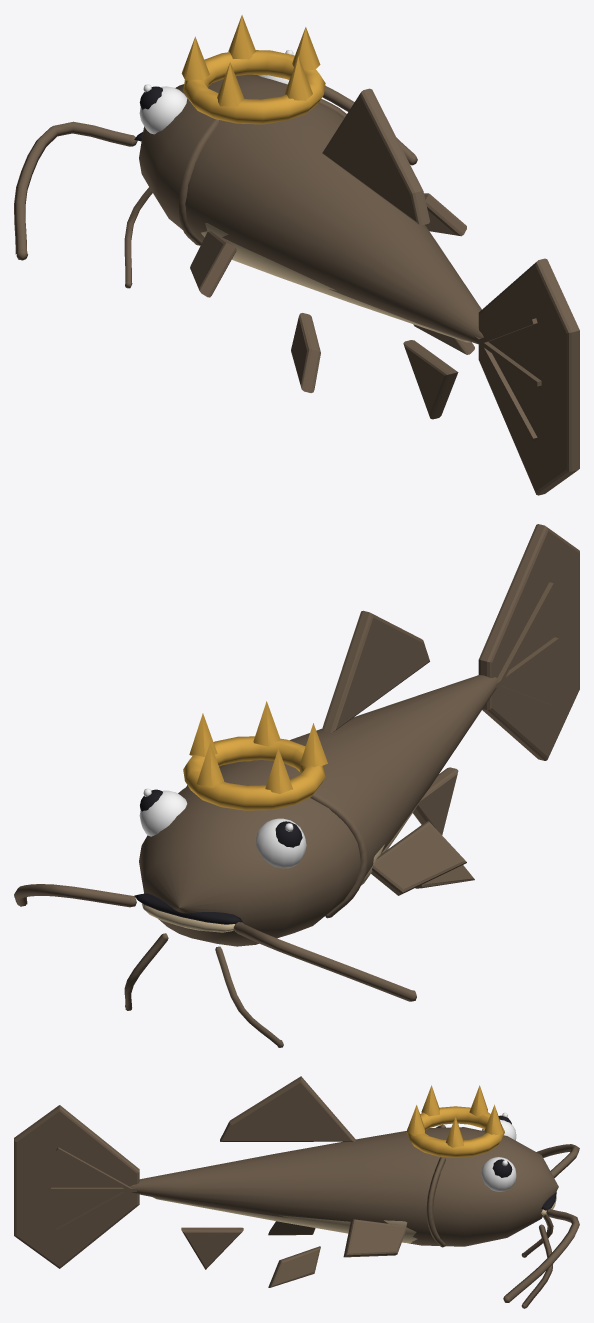
File: FISH_CATFISH.glb
3 renders of one model, top to bottom at view 1: azimuth 30°, elevation 25°; view 2: azimuth 150°, elevation 25°; view 3: azimuth 270°, elevation 25°, orthographic. The views are drawn at different scales.
Visible parts, largest first — view 1: CatfishBrown, PropGold, Belly, EyeWhite; view 2: CatfishBrown, PropGold, EyeWhite, Eye, Belly; view 3: CatfishBrown, PropGold, Belly, EyeWhite, Eye.
Boxes of the visible parts, x1=… form: CatfishBrown: x1=14, y1=74, x2=579, y2=495; PropGold: x1=181, y1=15, x2=325, y2=124; Belly: x1=201, y1=223, x2=471, y2=342; EyeWhite: x1=139, y1=50, x2=293, y2=134; CatfishBrown: x1=14, y1=524, x2=579, y2=1047; PropGold: x1=183, y1=701, x2=327, y2=810; EyeWhite: x1=139, y1=788, x2=306, y2=868; Eye: x1=134, y1=789, x2=302, y2=924; Belly: x1=142, y1=793, x2=425, y2=932; CatfishBrown: x1=14, y1=1076, x2=579, y2=1308; PropGold: x1=406, y1=1085, x2=504, y2=1157; Belly: x1=152, y1=1196, x2=556, y2=1242; EyeWhite: x1=481, y1=1112, x2=516, y2=1191; Eye: x1=492, y1=1115, x2=556, y2=1210.
Size of the model in its own units: 2.25 by 1.61 by 4.
